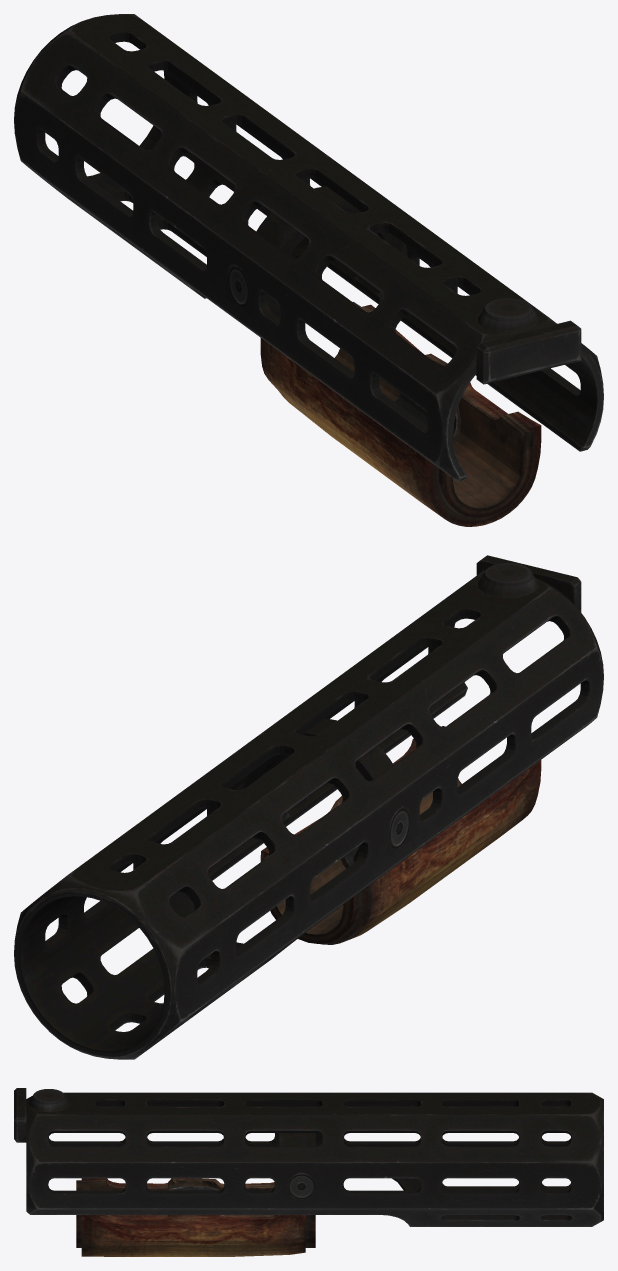
3 views of the same model, one above another, from view 1: azimuth 30°, elevation 25°; view 2: azimuth 150°, elevation 25°; view 3: azimuth 270°, elevation 25° (orthographic). The views are drawn at different scales.
Parts seen in each view (by area): view 1: TW_647db1eca8d3399c380d195c_PZ_Import; view 2: TW_647db1eca8d3399c380d195c_PZ_Import; view 3: TW_647db1eca8d3399c380d195c_PZ_Import.
Boxes of the visible parts, box(x1,y1,x2,y2) form: TW_647db1eca8d3399c380d195c_PZ_Import: box(14, 14, 603, 526); TW_647db1eca8d3399c380d195c_PZ_Import: box(14, 555, 603, 1059); TW_647db1eca8d3399c380d195c_PZ_Import: box(14, 1088, 603, 1256).
Bounding box in the file's own units: 0.0297 × 0.1411 × 0.0414.
Materials: 1 (1 with a texture image).
